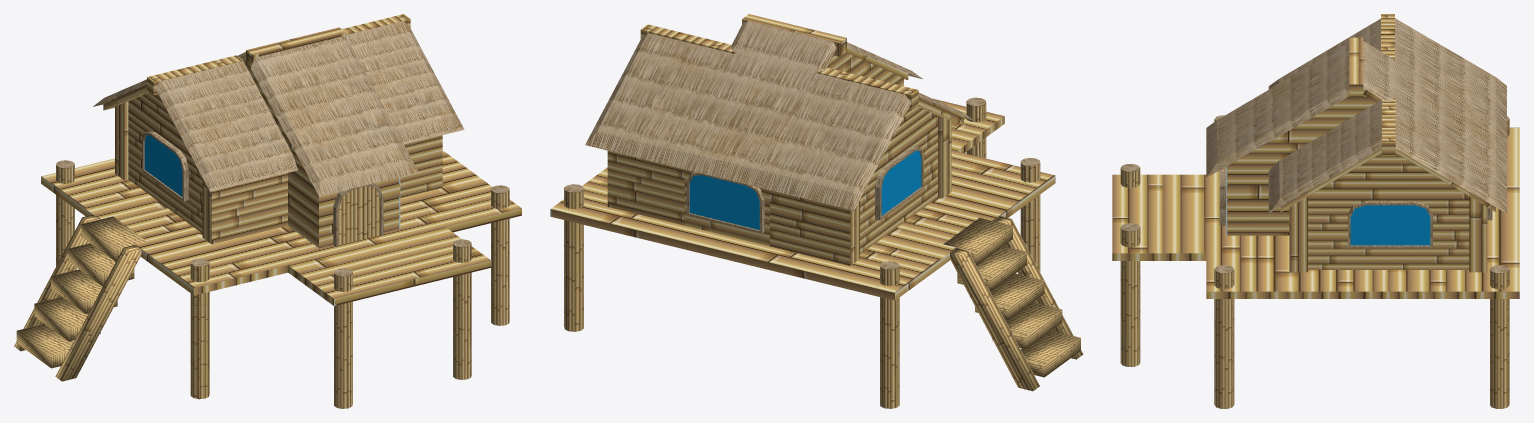
File: CajaCasa 3.2.fbx
3 renders of one model, left to right at view 1: azimuth 30°, elevation 25°; view 2: azimuth 150°, elevation 25°; view 3: azimuth 270°, elevation 25°, orthographic. The views are drawn at different scales.
Visible parts, largest first — view 1: Paja 1.002; view 2: Paja 1.002; view 3: Paja 1.002.
Boxes of the visible parts, x1,y1,x2,y2 form: Paja 1.002: [14, 14, 521, 408]; Paja 1.002: [550, 14, 1083, 408]; Paja 1.002: [1112, 14, 1519, 408].
Size of the model in its own units: 989 by 615 by 827.
16 materials, 13 textured.
